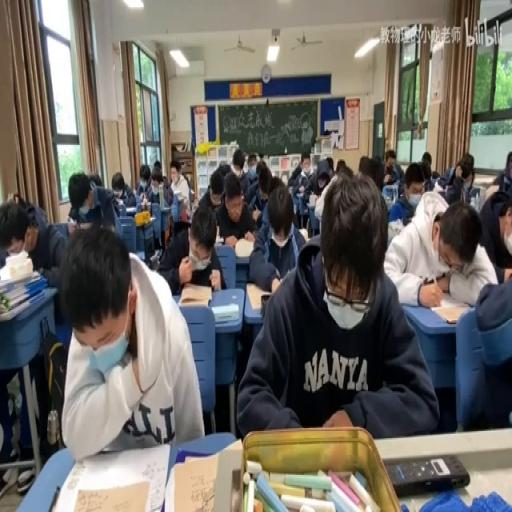calculator: (48, 441, 170, 509), (384, 454, 470, 496), (168, 452, 222, 512), (429, 289, 472, 321), (178, 283, 212, 304), (212, 302, 238, 324), (233, 236, 254, 256), (132, 215, 154, 226), (75, 219, 92, 229), (298, 226, 308, 240), (213, 233, 223, 245), (308, 193, 318, 205), (125, 205, 136, 215), (298, 183, 304, 192)
paper: (237, 171, 434, 438), (60, 225, 202, 459), (2, 186, 78, 484), (382, 188, 494, 307), (454, 277, 512, 431), (154, 202, 219, 294), (477, 173, 512, 273), (213, 174, 258, 248), (66, 170, 114, 232), (310, 156, 350, 222), (0, 200, 32, 266), (435, 154, 474, 202), (287, 149, 313, 215), (253, 161, 278, 220), (168, 155, 190, 220), (403, 162, 428, 202), (382, 146, 404, 190), (110, 169, 134, 209), (136, 162, 153, 199), (232, 150, 245, 174), (210, 179, 223, 202), (89, 170, 102, 188), (357, 155, 367, 176), (462, 158, 472, 176), (218, 162, 230, 176), (421, 149, 430, 165), (13, 192, 24, 205), (247, 156, 257, 170), (437, 175, 447, 188), (334, 158, 345, 169), (152, 174, 162, 186), (299, 168, 309, 179), (242, 158, 249, 173), (507, 152, 512, 171), (326, 155, 332, 169), (152, 161, 161, 169), (258, 152, 264, 159)
person: (230, 468, 242, 510), (260, 292, 270, 314), (146, 200, 152, 214)
